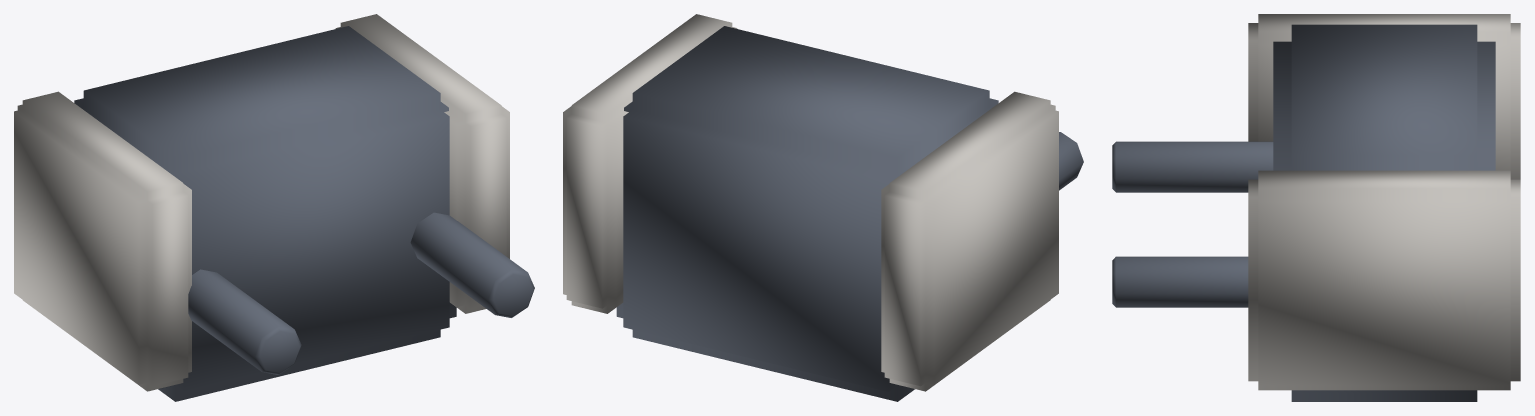
File: mount_bracket.glb
3 renders of one model, left to right at view 1: azimuth 30°, elevation 25°; view 2: azimuth 150°, elevation 25°; view 3: azimuth 270°, elevation 25°, orthographic.
Visible parts, largest first — view 1: mount_bracket; view 2: mount_bracket; view 3: mount_bracket.
Boxes of the visible parts, x1,y1,x2,y2 form: mount_bracket: [14, 14, 534, 401]; mount_bracket: [563, 14, 1083, 401]; mount_bracket: [1112, 14, 1520, 401].
Size of the model in its own units: 0.35 by 0.22 by 0.33.
